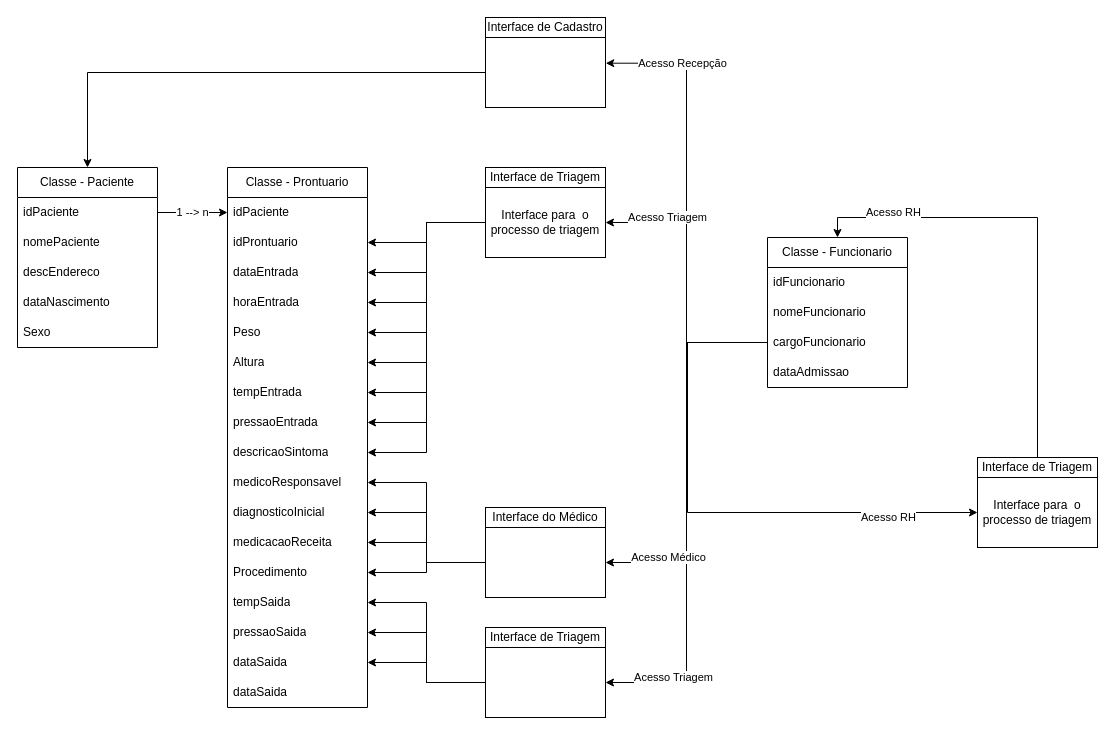
Image size: 1115x735. Some labels were removed from this diagram. The centre of each missing label's shape, as x and y in pixels:
"Interface para o processo de Alta" goes at (545,682).
"Interface para recepção" goes at (545,72).
"Interface que ficará no computador do médico" goes at (545,562).
